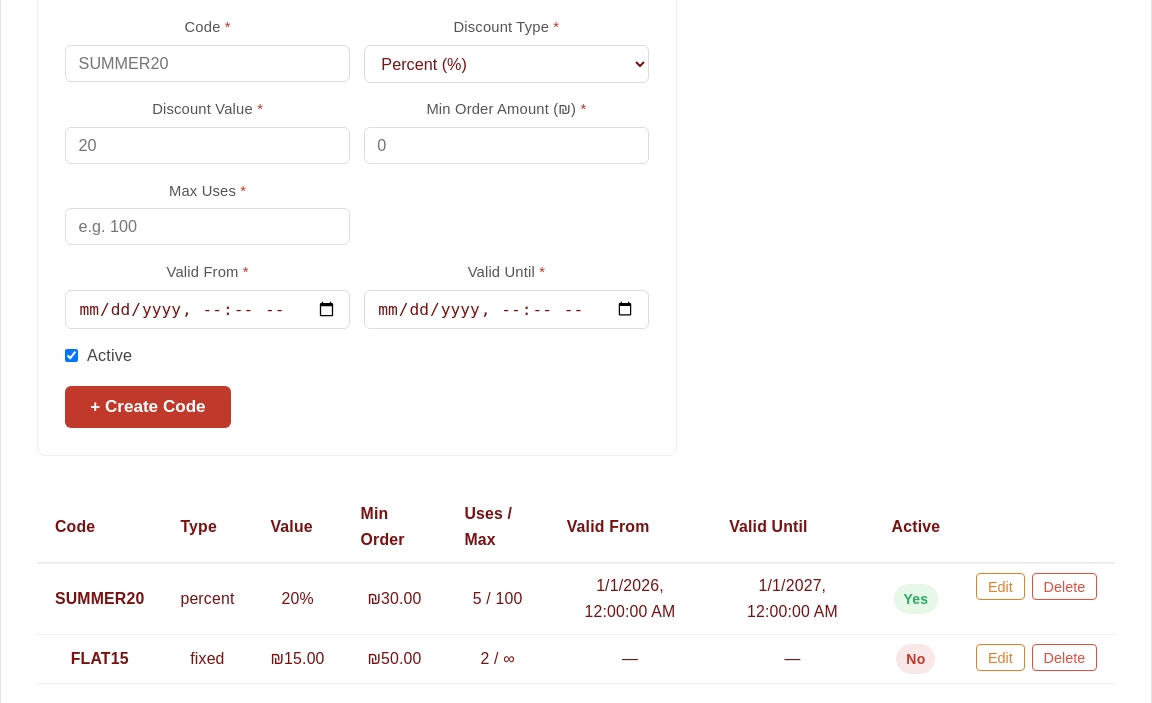
Test case: OwnerPromoCodes › clicking Edit populates form with existing code values
This screenshot has width=1152, height=703.
(page scrolled)
Expected: the text "SUMMER20" is shown, x1=55 y1=590 x2=144 y2=607
Click the button "Edit" in the row of "SUMMER20" at (1000, 587), box x1=976 y1=573 x2=1025 y2=600
(page scrolled)
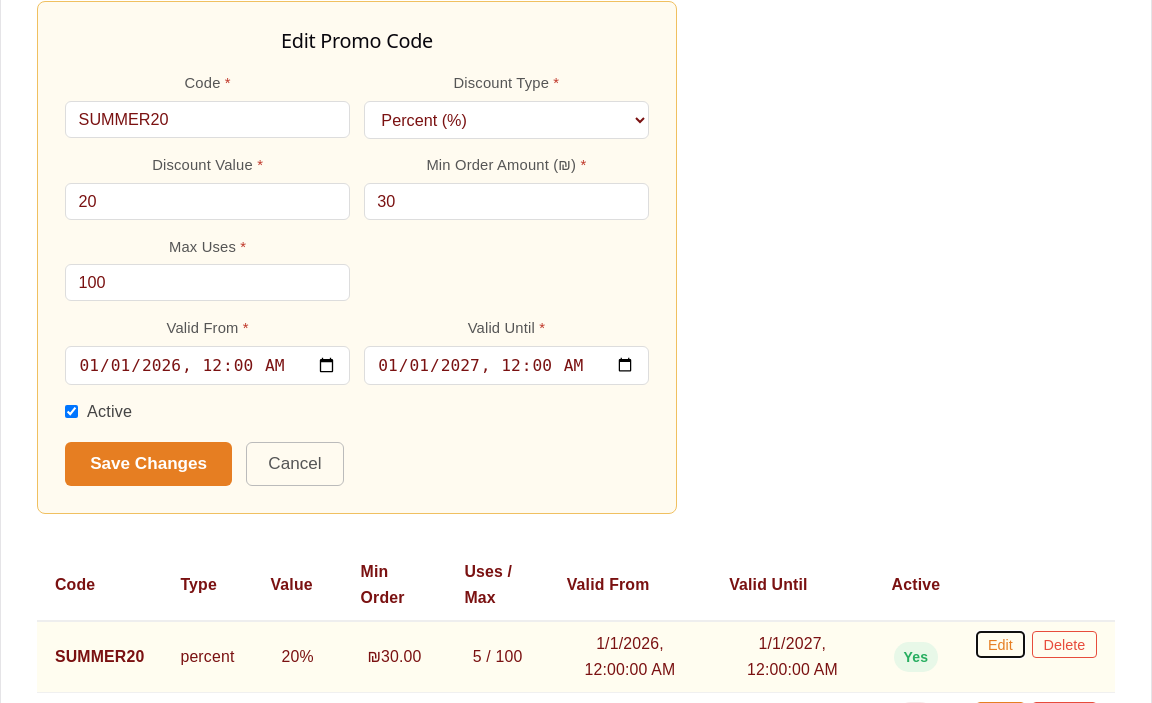
Result: the heading "Edit Promo Code" is shown at x1=281 y1=27 x2=433 y2=54
Result: the 1st field with placeholder "SUMMER20" holds "SUMMER20" at x1=65 y1=101 x2=350 y2=138
Result: the number field with placeholder "20" below "Discount Value" holds "20" at x1=65 y1=183 x2=350 y2=220
